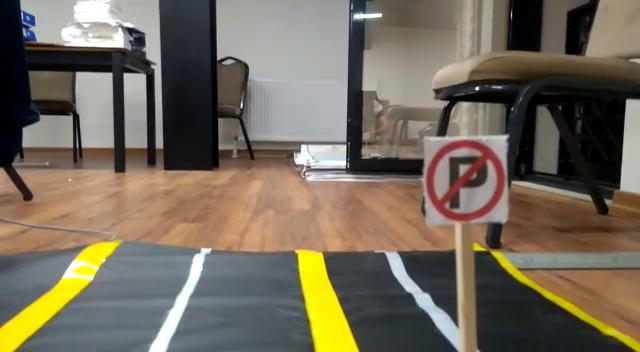park_yapilmaz: (423, 137, 511, 226)
